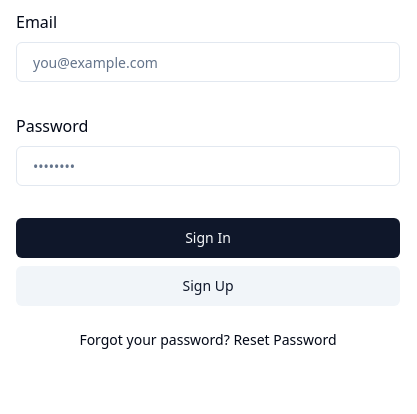
Test: LoginPageClient › shows a recoverable invalid-credentials error instead of a dead-end message
This screenshot has width=417, height=414.
Type "player@example.com" into the field labelled "Email" at coordinates (208, 62), box left=16, top=42, right=400, bottom=82
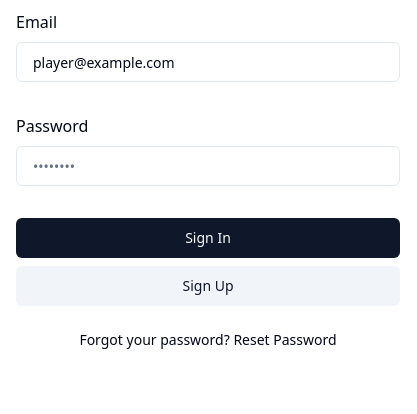
Type "password123" into the password field labelled "Password" at coordinates (208, 166), box left=16, top=146, right=400, bottom=186
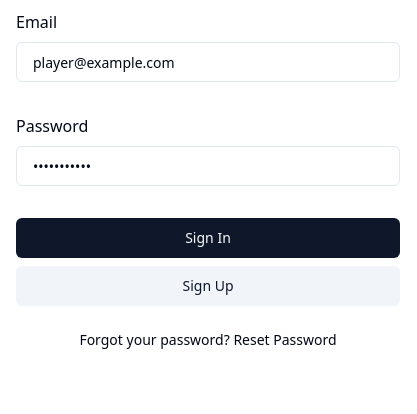
Click the button "Sign In" at coordinates (208, 238), box left=16, top=218, right=400, bottom=258
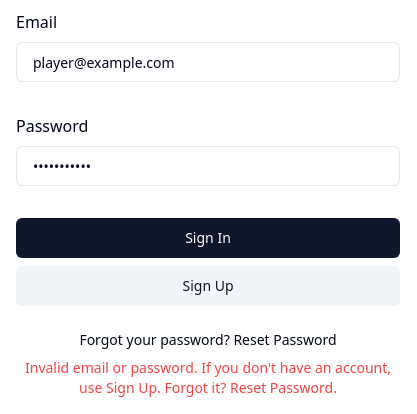
Now the text "Invalid email or password" is shown, box left=25, top=358, right=391, bottom=397
